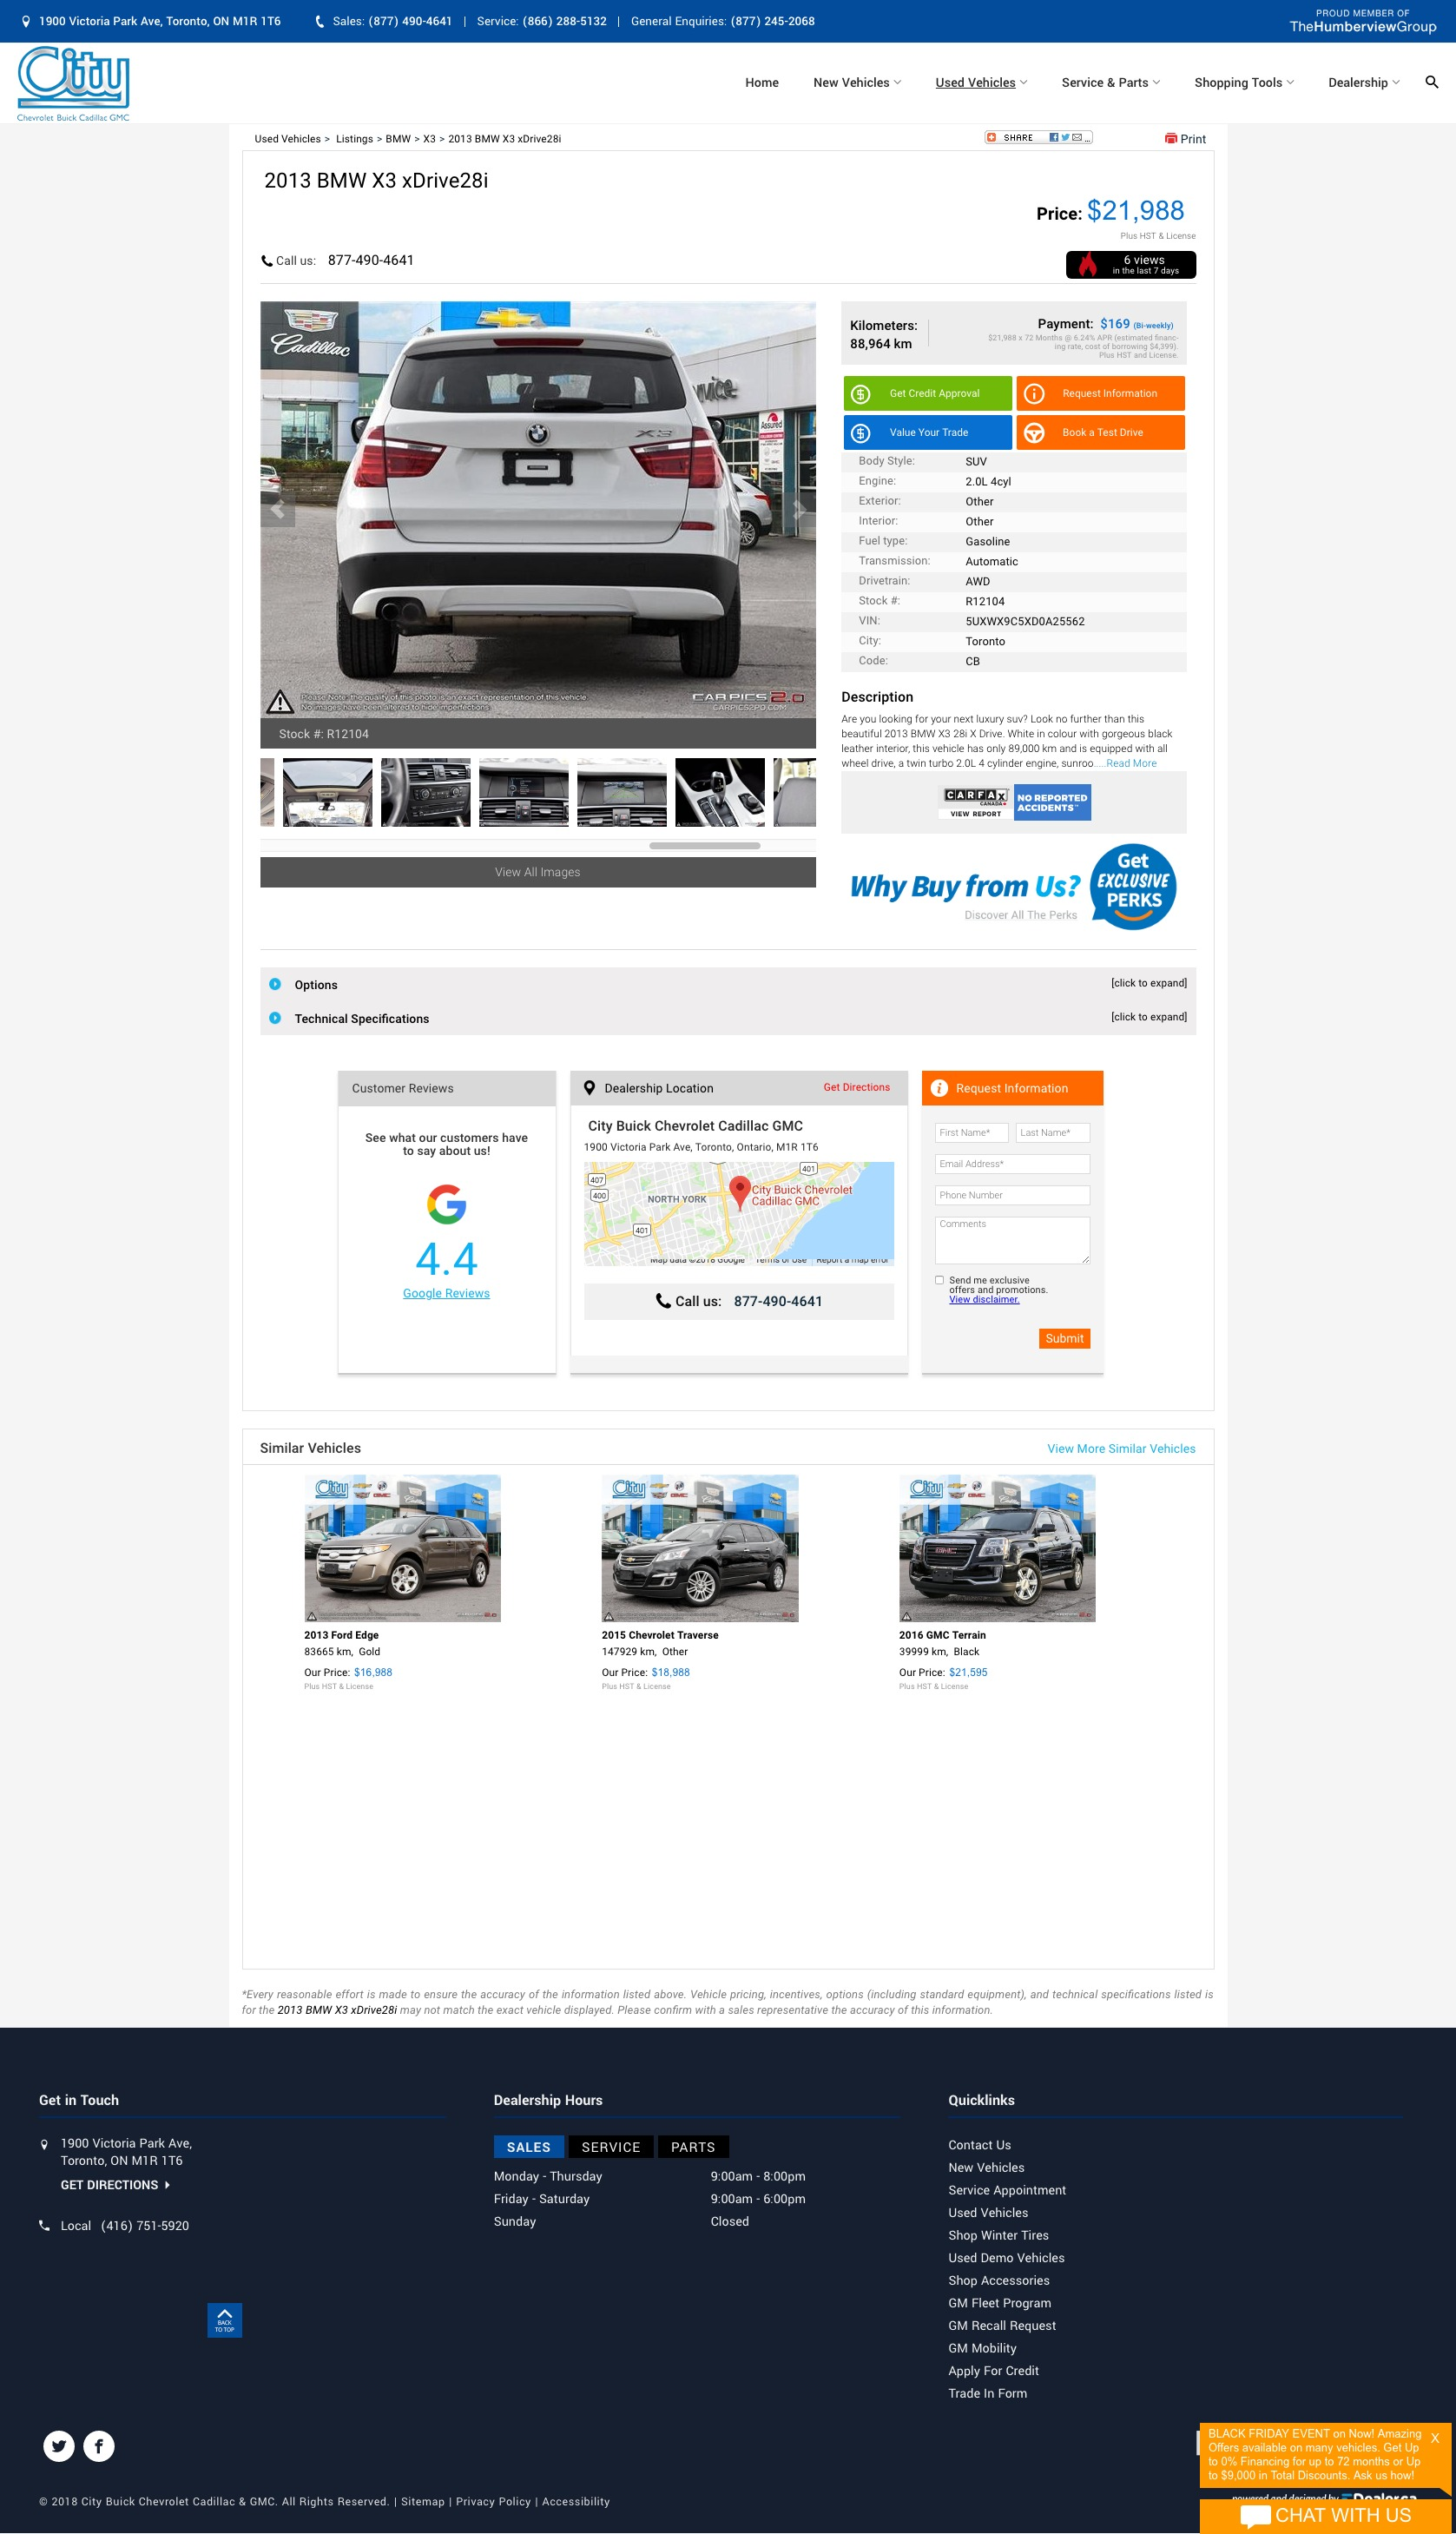car: (781, 493, 819, 529)
